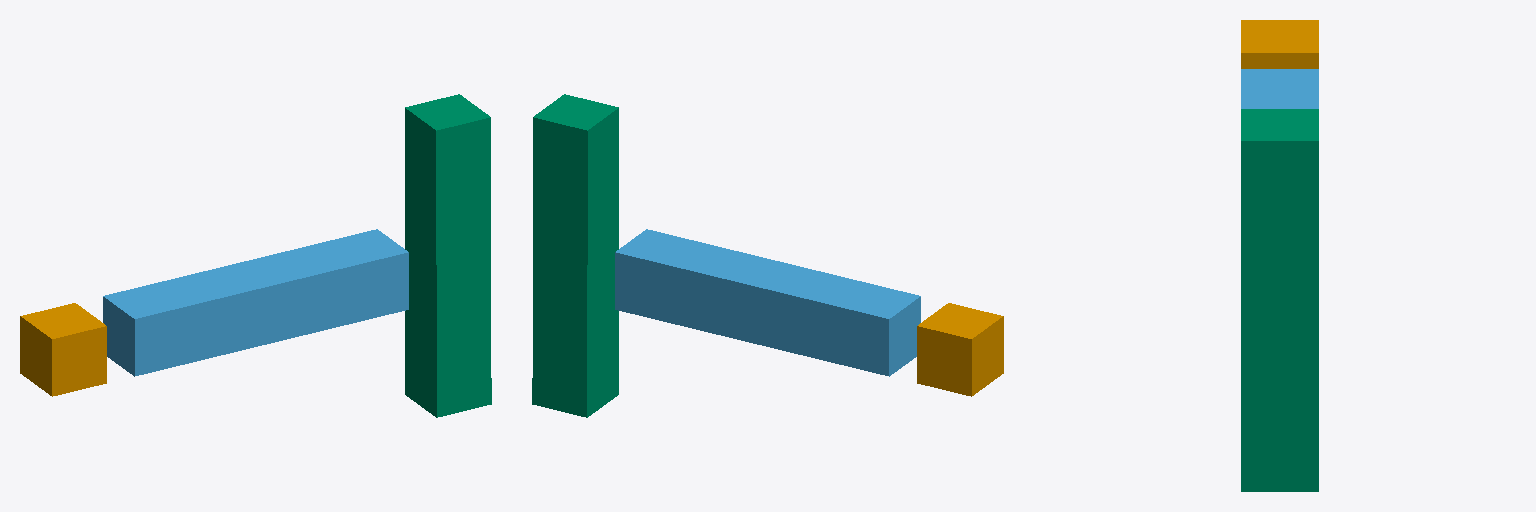
URDF robot description (simple_fixed_continuous_joints):
<?xml version="1.0"?>
<robot name="simple_fixed_continuous_joints">
  <link name="BaseLink">
    <visual>
      <origin rpy="0 0 0" xyz="0.0 0 0"/>
      <geometry>
        <box size="0.2 0.2 0.2"/>
      </geometry>
    </visual>
  </link>
  <link name="Arm:1">
    <visual>
      <origin rpy="0 0 0" xyz="0.55 0 0"/>
      <geometry>
        <box size="1.0 0.2 0.2"/>
      </geometry>
    </visual>
  </link>
  <link name="Arm:2">
    <visual>
      <origin rpy="0 1.570 0" xyz="0.15 0 0"/>
      <geometry>
        <box size="1.0 0.2 0.2"/>
      </geometry>
    </visual>
  </link>

  <joint name="joint_root" type="fixed">
    <origin rpy="0 0 0" xyz="0.15 0 0.0"/>
    <parent link="BaseLink"/>
    <child link="Arm:1"/>
  </joint>
  <joint name="joint_arm:1" type="continuous">
    <origin rpy="0 0 0" xyz="1.1 0 0.0"/>
    <parent link="Arm:1"/>
    <child link="Arm:2"/>
    <axis xyz="1 0 0"/>
  </joint>
</robot>

--- Render facts (derived) ---
Views: 3 orthographic renders of the robot side by side, from view 1: azimuth 30°, elevation 25°; view 2: azimuth 150°, elevation 25°; view 3: azimuth 270°, elevation 25°.
Model simple_fixed_continuous_joints with 3 links and 2 joints (1 continuous, 1 fixed), rooted at BaseLink, posed every joint at zero.
Visible links, largest first — view 1: Arm:2, Arm:1, BaseLink; view 2: Arm:2, Arm:1, BaseLink; view 3: Arm:2, BaseLink, Arm:1.
Boxes of the visible links, <box> form: Arm:2: <box>405,94,491,417</box>; Arm:1: <box>103,229,408,376</box>; BaseLink: <box>20,303,106,396</box>; Arm:2: <box>532,94,618,417</box>; Arm:1: <box>615,229,920,376</box>; BaseLink: <box>917,303,1003,396</box>; Arm:2: <box>1241,109,1318,491</box>; BaseLink: <box>1241,20,1318,68</box>; Arm:1: <box>1241,69,1318,108</box>.
Bounding box of the posed robot: 1.6 × 0.2 × 1 m (x, y, z).
Geometry: primitives only (box / cylinder / sphere), no mesh files.